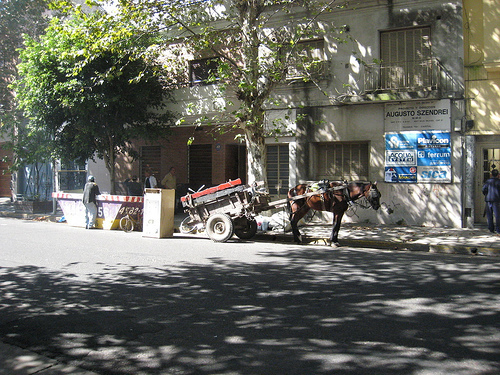horse: (289, 179, 382, 247)
